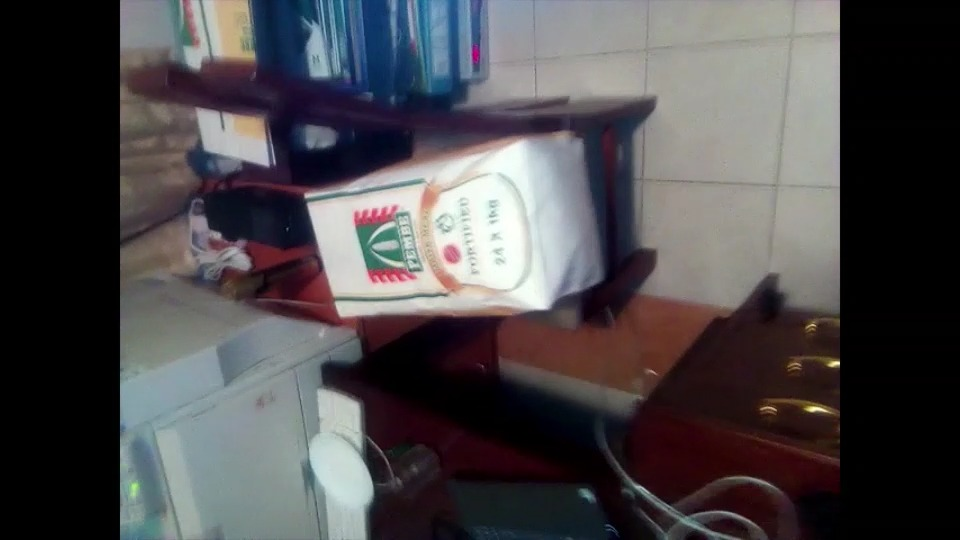maize_flour_green_label: (308, 137, 605, 310)
